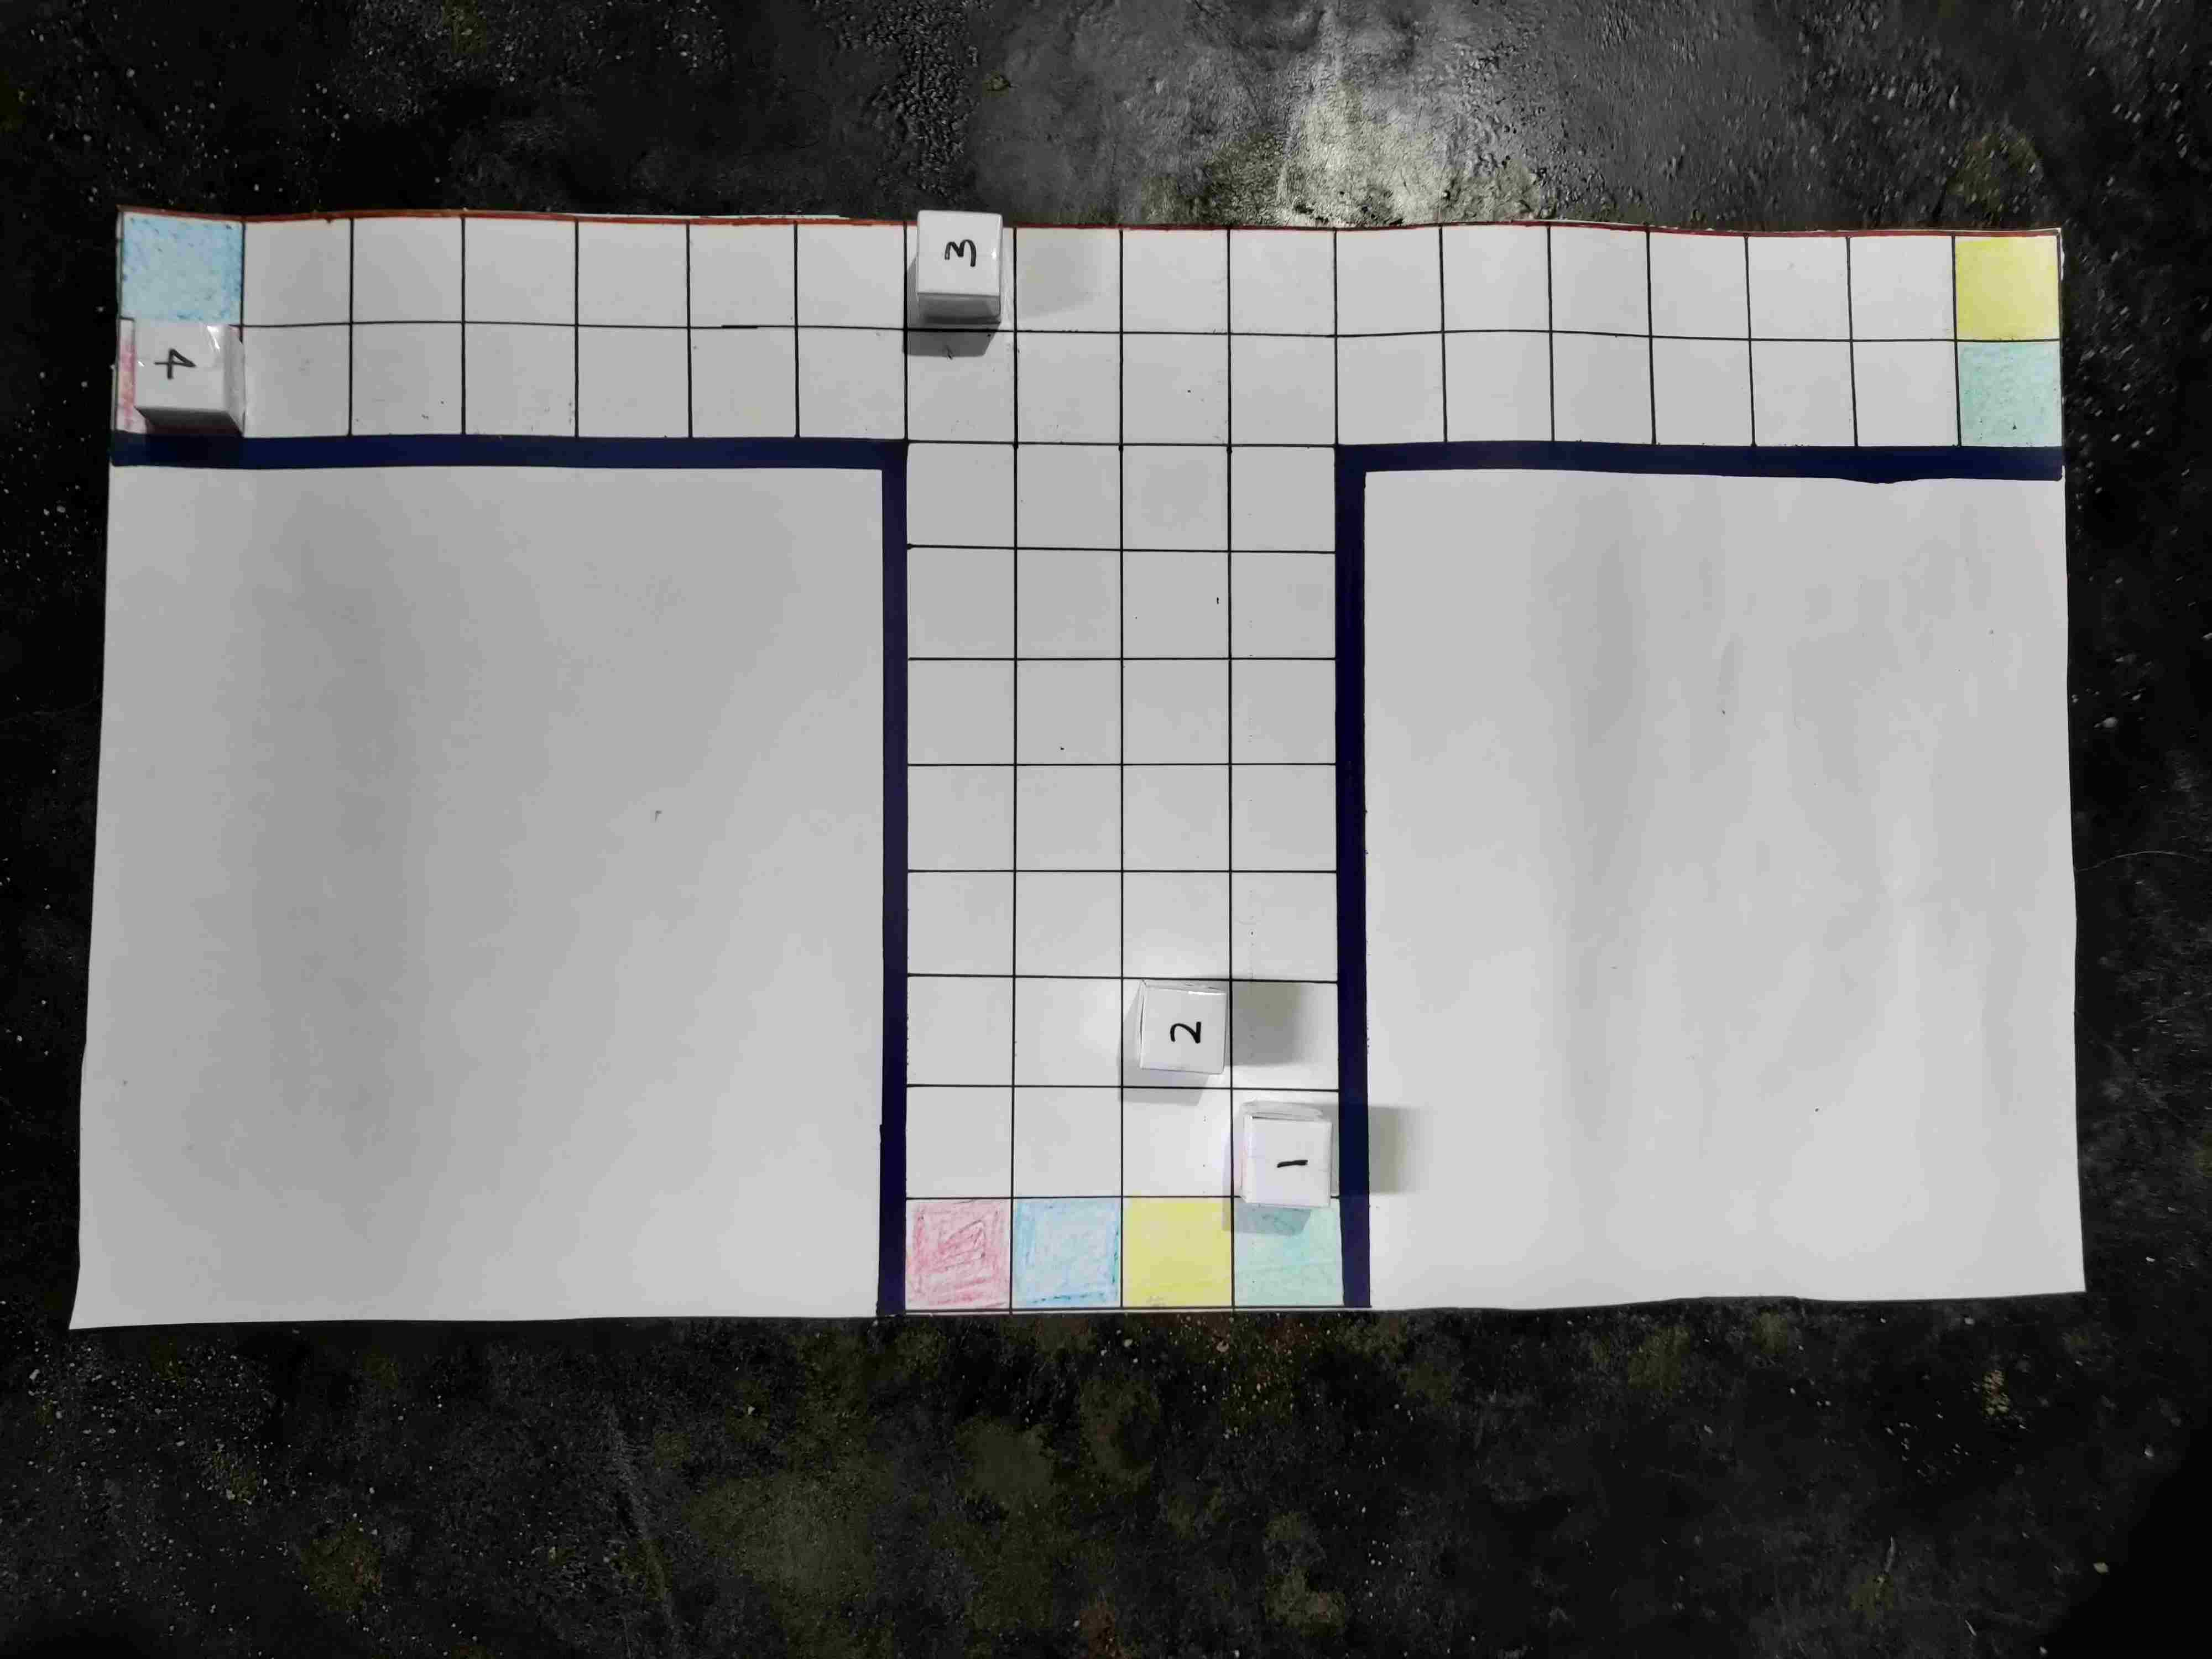arena: (233, 392, 2182, 1492)
bot: (1298, 1392, 1385, 1480), (1190, 943, 1271, 1032), (979, 1143, 1061, 1229), (1078, 634, 1158, 709)
